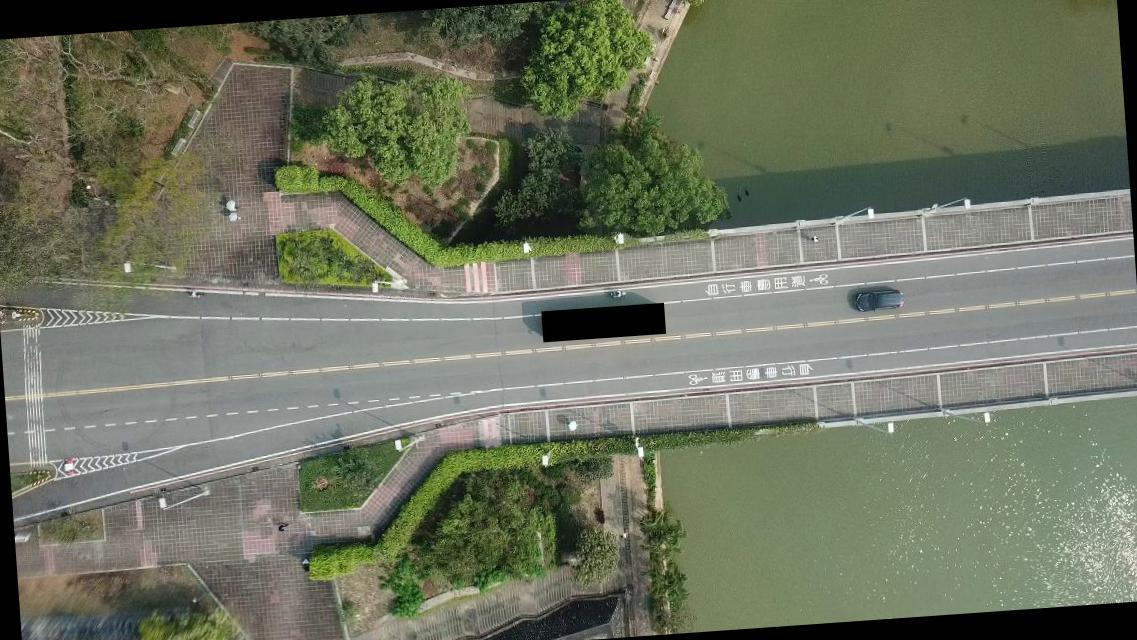vehicle: (851, 286, 903, 312)
